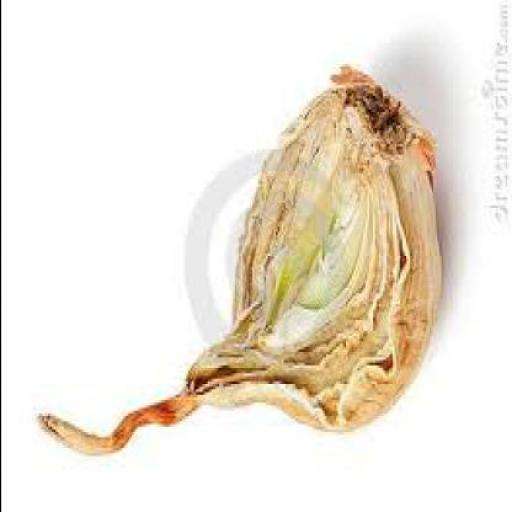biodegradable: (34, 70, 440, 458)
